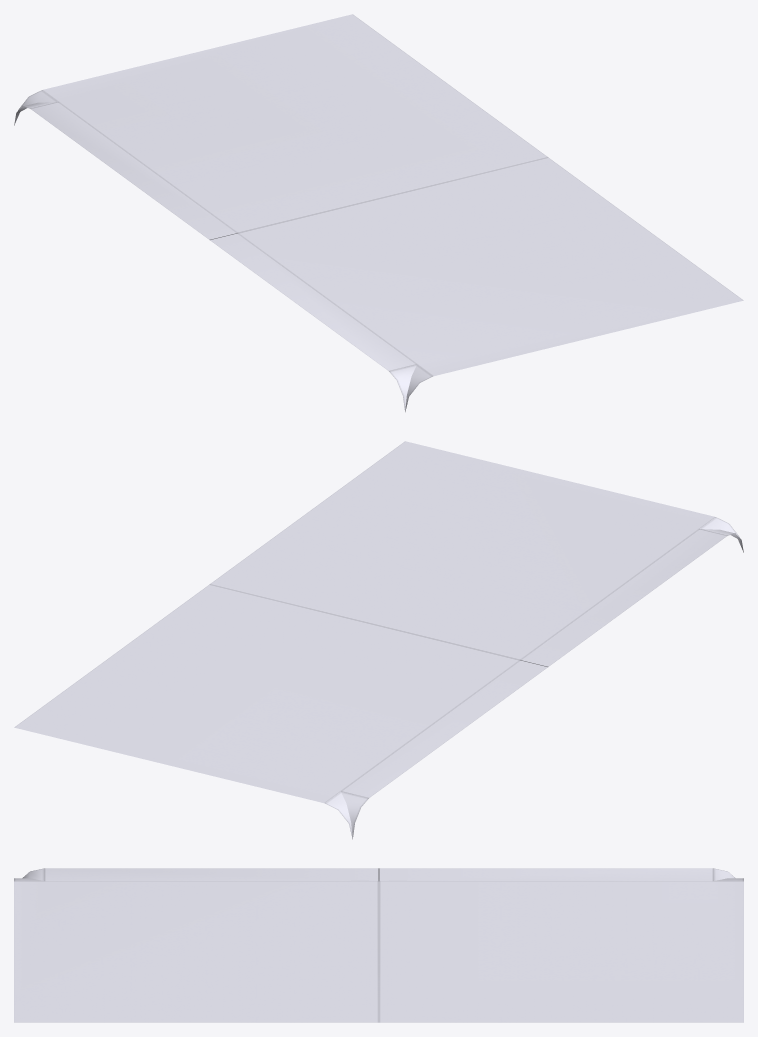
File: Roof_Door_01.FBX
3 renders of one model, top to bottom at view 1: azimuth 30°, elevation 25°; view 2: azimuth 150°, elevation 25°; view 3: azimuth 270°, elevation 25°, orthographic. The views are drawn at different scales.
Parts seen in each view (by area): view 1: Roof_Door_01; view 2: Roof_Door_01; view 3: Roof_Door_01.
Part boxes in pixels (x1,y1,x2,y2): Roof_Door_01: [14, 14, 743, 412]; Roof_Door_01: [14, 441, 743, 839]; Roof_Door_01: [14, 868, 743, 1022].
Bounding box in the file's own units: 3 × 0.25 × 6.
1 material, 1 textured.
